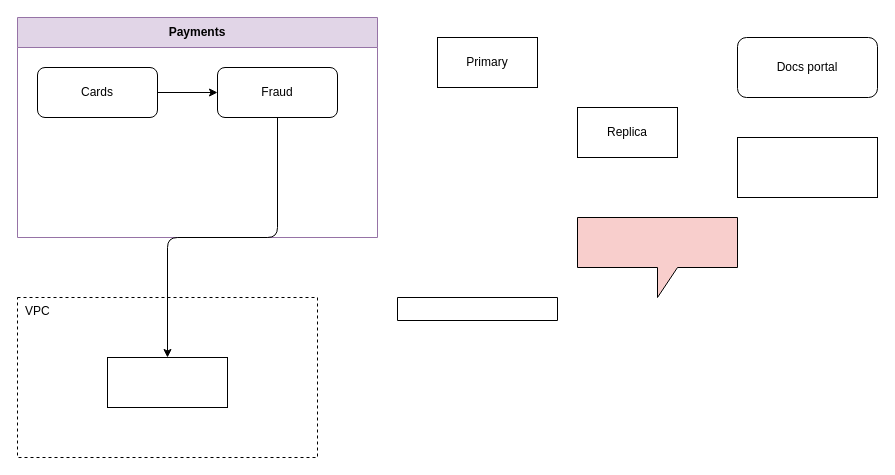
Some shapes in this 895 by 475 pixel diagram are drawn without their labels. The shapes that lost their labels are listed below. From the top down, each one's box as (x1, y1, x2, y2) in pixels, then its label:
(736, 136, 878, 198): Owner: SRE
(576, 216, 738, 298): Single point of failure
(396, 296, 558, 320): Legacy (folded)
(106, 356, 228, 408): App VM
